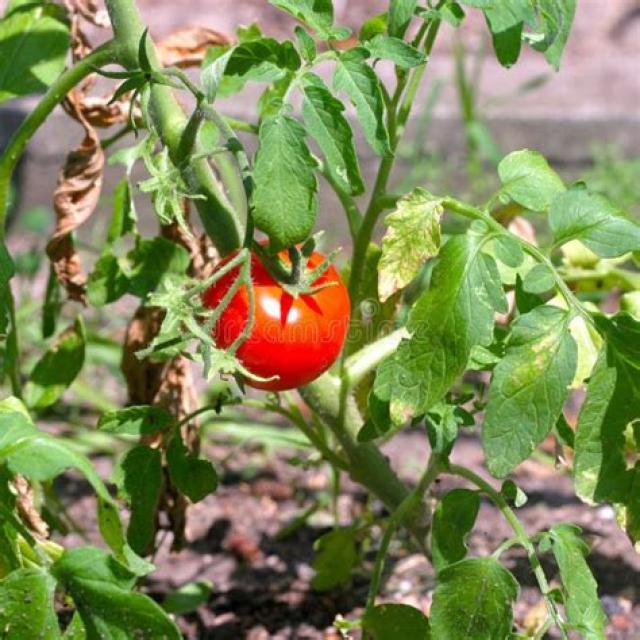Tomato: (201, 234, 352, 398)
